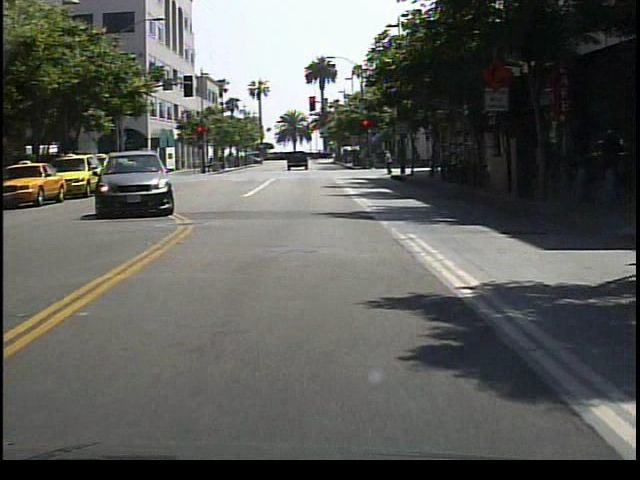person: (412, 144, 427, 174), (384, 149, 400, 176)
